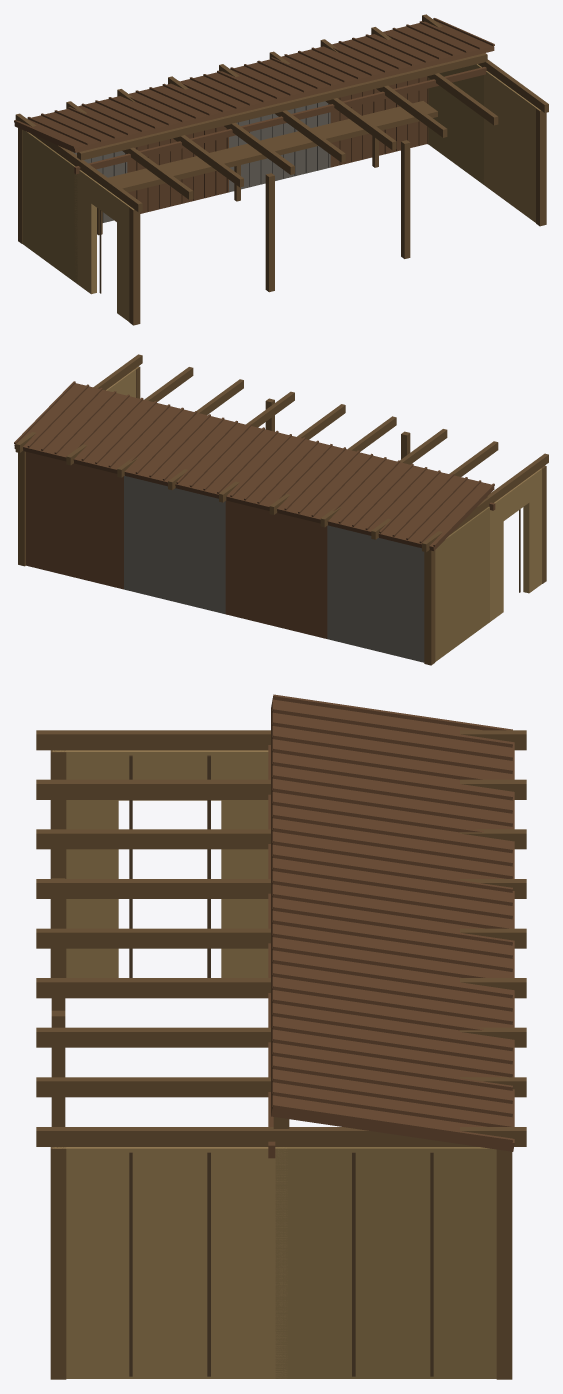
File: bldg_range_shack.glb
3 views of the same model, one above another, from view 1: azimuth 30°, elevation 25°; view 2: azimuth 150°, elevation 25°; view 3: azimuth 270°, elevation 25° (orthographic). The views are drawn at different scales.
Visible parts, largest first — view 1: WallPanel_Finished (×4), RoofDeck, RoofPanel_Joists, WallPanel_Tin (×4), RoofPanel_Sloped, CornerPost (×5), Bldg_RangeShack; view 2: WallPanel_Tin (×4), RoofDeck, WallPanel_Finished (×3), RoofPanel_Sloped, RoofPanel_Joists, CornerPost (×3); view 3: WallPanel_Finished (×3), RoofDeck, RoofPanel_Joists, RoofPanel_Sloped, CornerPost (×5).
Part boxes in pixels (x1=…): WallPanel_Finished (×4): x1=22, y1=64, x2=540, y2=321; RoofDeck: x1=14, y1=21, x2=494, y2=152; RoofPanel_Joists: x1=15, y1=14, x2=548, y2=212; WallPanel_Tin (×4): x1=73, y1=76, x2=427, y2=222; RoofPanel_Sloped: x1=14, y1=18, x2=494, y2=174; CornerPost (×5): x1=18, y1=108, x2=546, y2=325; Bldg_RangeShack: x1=97, y1=101, x2=437, y2=235; WallPanel_Tin (×4): x1=26, y1=452, x2=424, y2=662; RoofDeck: x1=14, y1=383, x2=494, y2=550; WallPanel_Finished (×3): x1=106, y1=367, x2=542, y2=661; RoofPanel_Sloped: x1=14, y1=381, x2=495, y2=546; RoofPanel_Joists: x1=15, y1=354, x2=548, y2=552; CornerPost (×3): x1=18, y1=451, x2=546, y2=665; WallPanel_Finished (×3): x1=52, y1=750, x2=496, y2=1378; RoofDeck: x1=271, y1=699, x2=514, y2=1151; RoofPanel_Joists: x1=36, y1=730, x2=526, y2=1146; RoofPanel_Sloped: x1=268, y1=694, x2=512, y2=1158; CornerPost (×5): x1=50, y1=750, x2=512, y2=1379.
Bounding box in the file's own units: 9.94 × 3.14 × 5.02.
